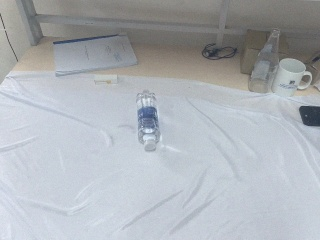bottle: (248, 29, 280, 94), (136, 92, 161, 152)
cup: (271, 58, 312, 98)
phone: (299, 106, 320, 127)
